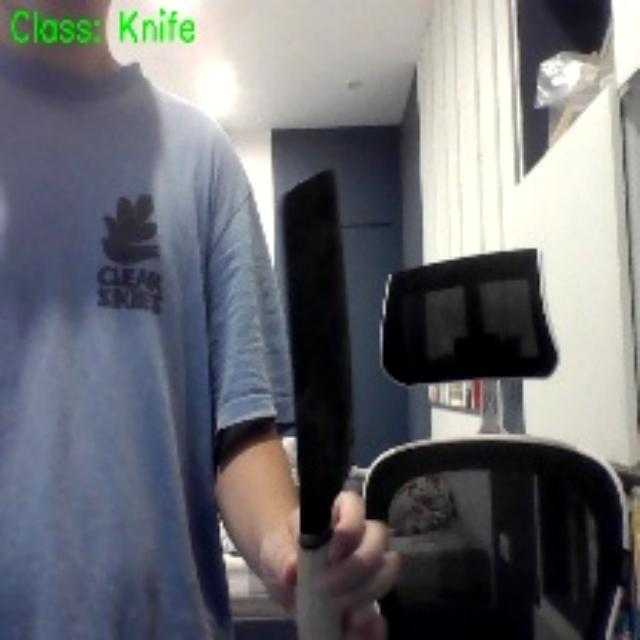Knife: (283, 172, 351, 639)
